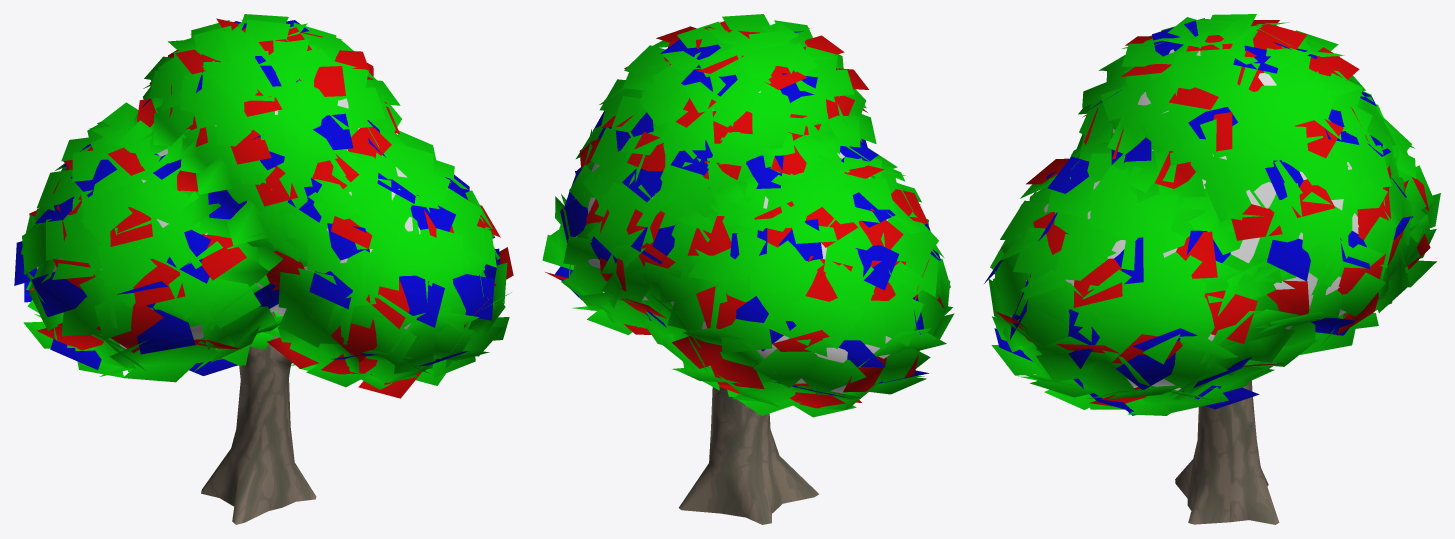
Rendered from obj_tree_medium.fbx.
3 renders of one model, left to right at view 1: azimuth 30°, elevation 25°; view 2: azimuth 150°, elevation 25°; view 3: azimuth 270°, elevation 25°, orthographic. The views are drawn at different scales.
Parts seen in each view (by area): view 1: Hojas.002; view 2: Hojas.002; view 3: Hojas.002.
Part boxes in pixels (<box>): Hojas.002: <box>14,14,513,524</box>; Hojas.002: <box>542,14,954,524</box>; Hojas.002: <box>984,14,1440,524</box>.
Size of the model in its own units: 7.72 by 8.48 by 7.33.
Materials: 2 (1 with a texture image).
